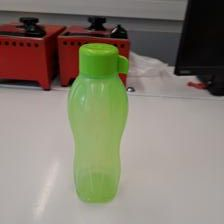bottle: (64, 40, 133, 205)
